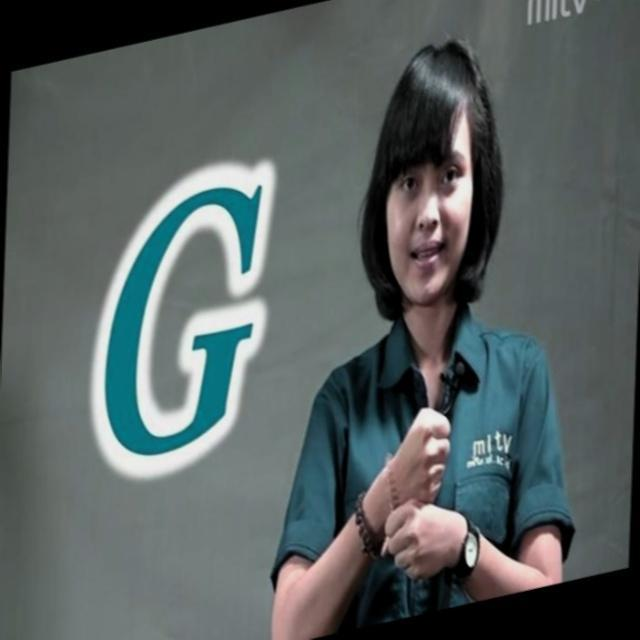G: (346, 390, 486, 612)
